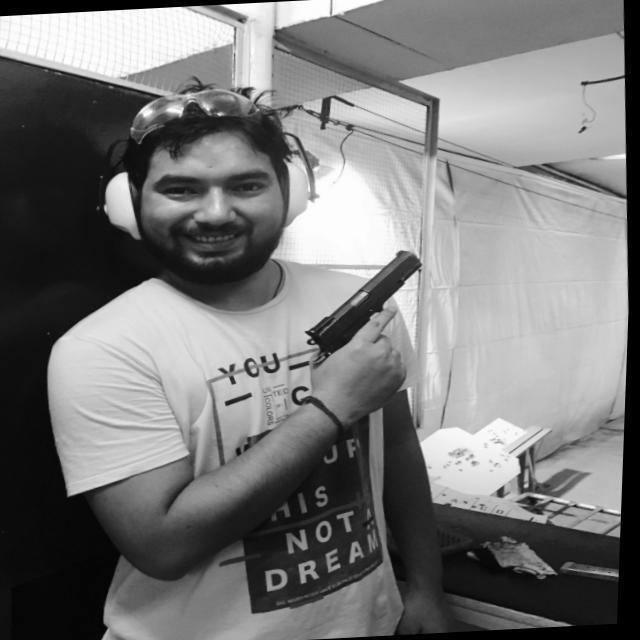weapon: (298, 243, 435, 398)
